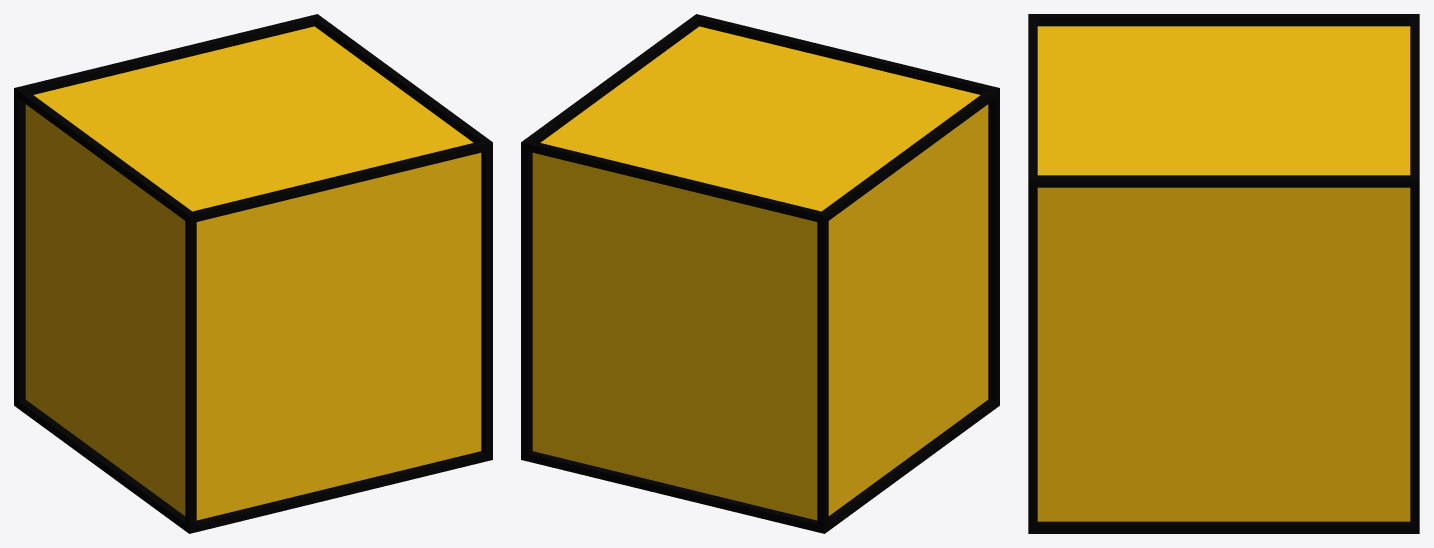
Rendered from orangeOutline.fbx.
The picture shows the model from 3 angles, left to right: view 1: azimuth 30°, elevation 25°; view 2: azimuth 150°, elevation 25°; view 3: azimuth 270°, elevation 25°; orthographic projection. The views are drawn at different scales.
Parts seen in each view (by area): view 1: orangeOutline; view 2: orangeOutline; view 3: orangeOutline.
Boxes of the visible parts, <box> form: orangeOutline: <box>14,14,492,533</box>; orangeOutline: <box>521,14,999,533</box>; orangeOutline: <box>1028,14,1419,533</box>.
Bounding box in the file's own units: 1.05 × 1.05 × 1.05.
